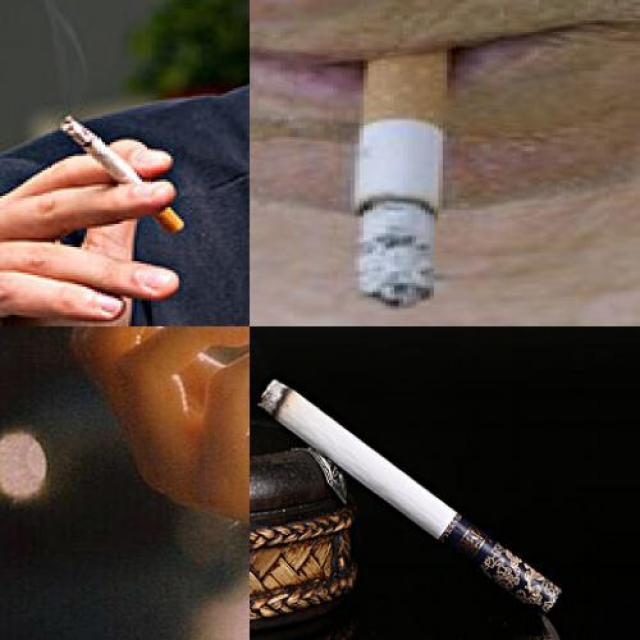smoking: (256, 376, 562, 614), (356, 28, 448, 310), (56, 113, 186, 234)
